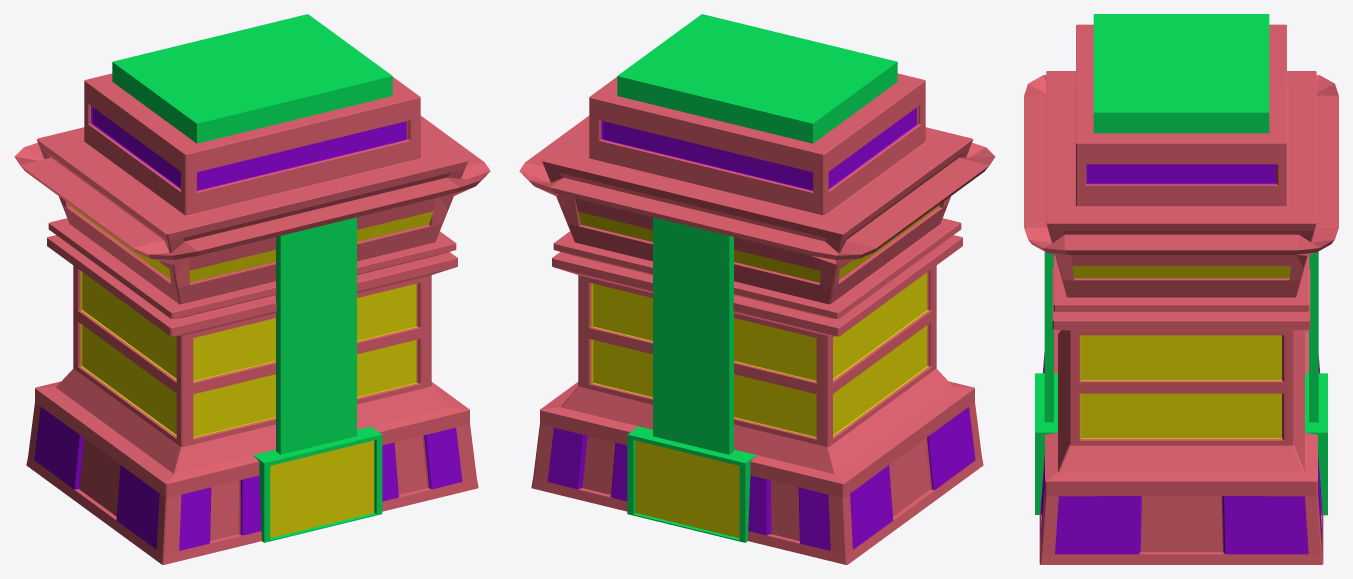
File: decoration-tower-scifi.fbx
3 views of the same model, side by side, from view 1: azimuth 30°, elevation 25°; view 2: azimuth 150°, elevation 25°; view 3: azimuth 270°, elevation 25° (orthographic). The views are drawn at different scales.
Parts seen in each view (by area): view 1: decoration-tower-scifi; view 2: decoration-tower-scifi; view 3: decoration-tower-scifi.
Part boxes in pixels (box(x1,y1,x2,y2)): decoration-tower-scifi: box(14, 14, 490, 564); decoration-tower-scifi: box(519, 14, 995, 564); decoration-tower-scifi: box(1024, 14, 1338, 564).
Bounding box in the file's own units: 18.48 × 20.49 × 13.86.
